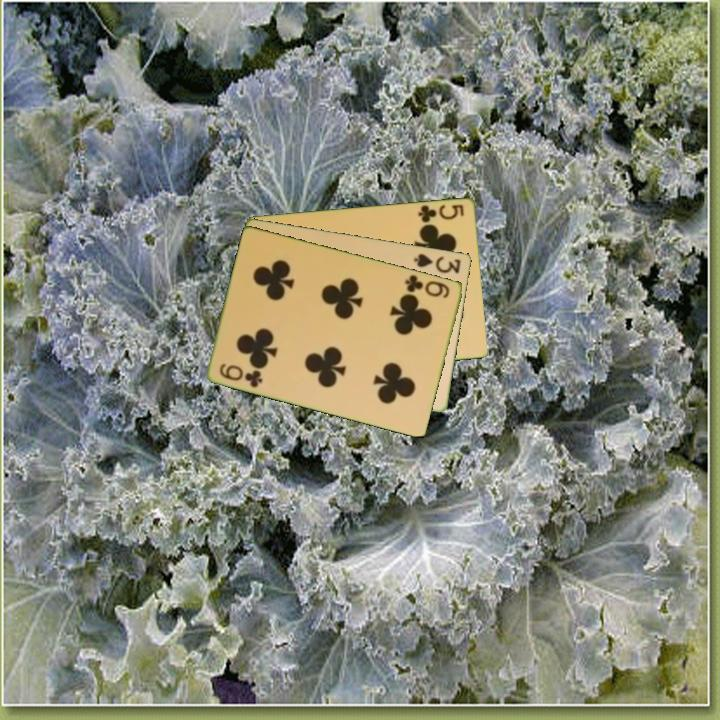3s: (410, 250, 464, 276)
5c: (415, 200, 467, 225)
6c: (216, 359, 266, 390), (402, 271, 453, 301)
